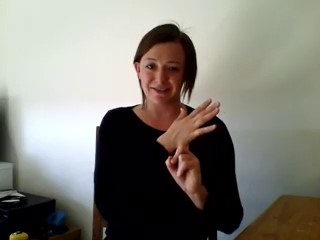N: (153, 96, 224, 196)
